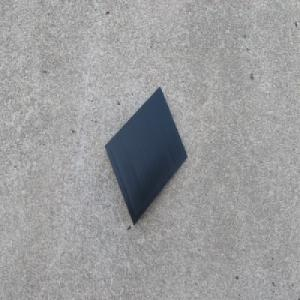PlasticPart: (104, 85, 188, 226)
